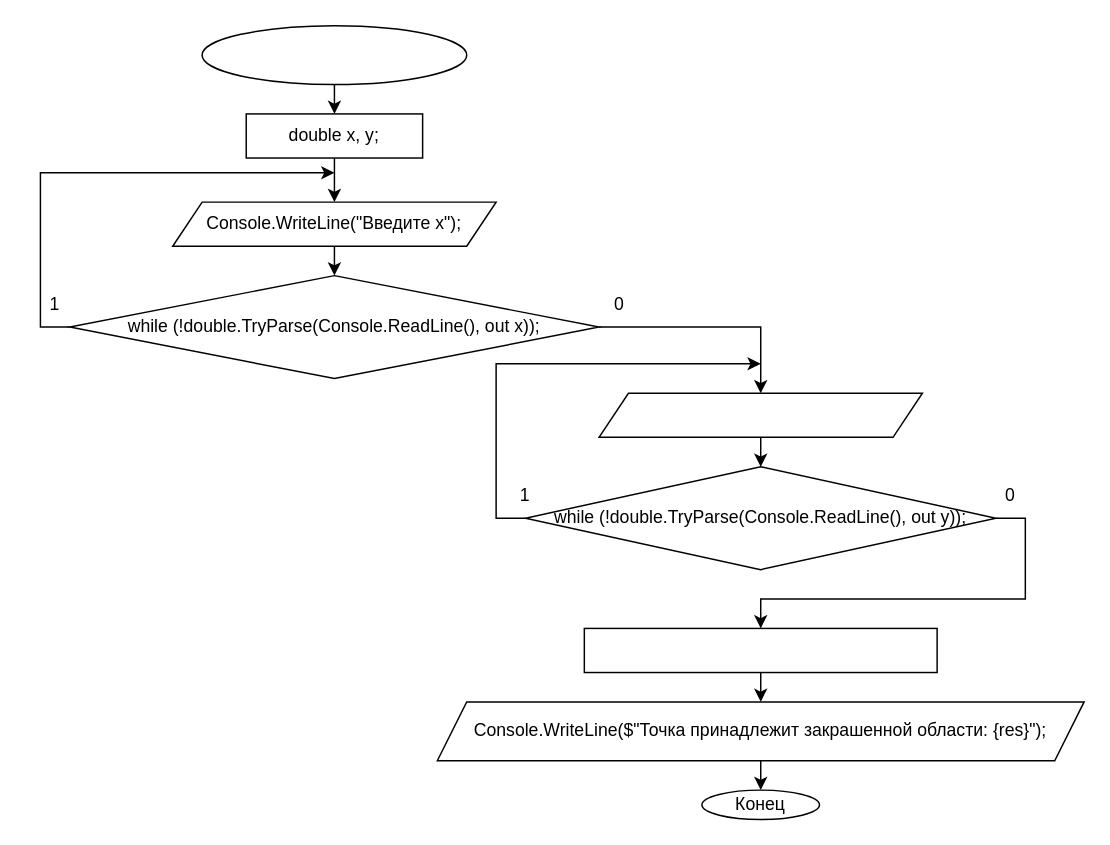
The diagram is 1110 pixels wide and 845 high, and some of its shapes have lost their labels. Each missing label, with the box of its shape:
bool res = (y <= 0) && (x * x + y * y <= 1);: (583, 627, 937, 673)
Console.WriteLine("Введите y");: (598, 392, 922, 437)
static void Main(string[] args): (201, 24, 467, 85)
